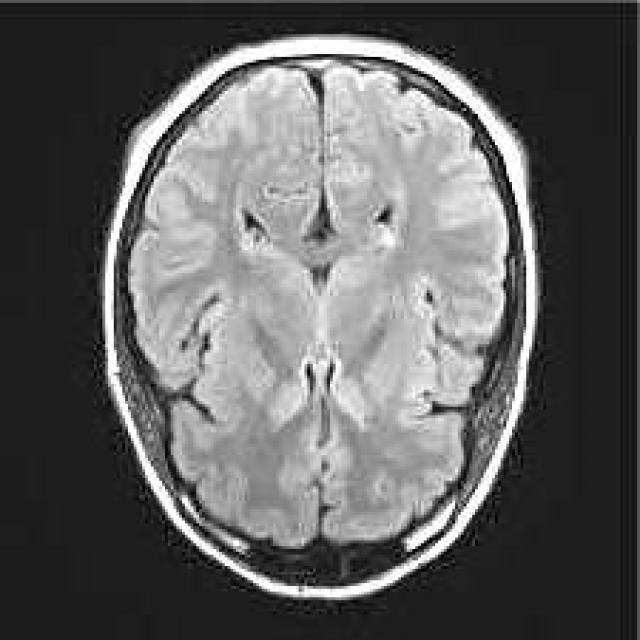no-tumor: (164, 134, 463, 482)
